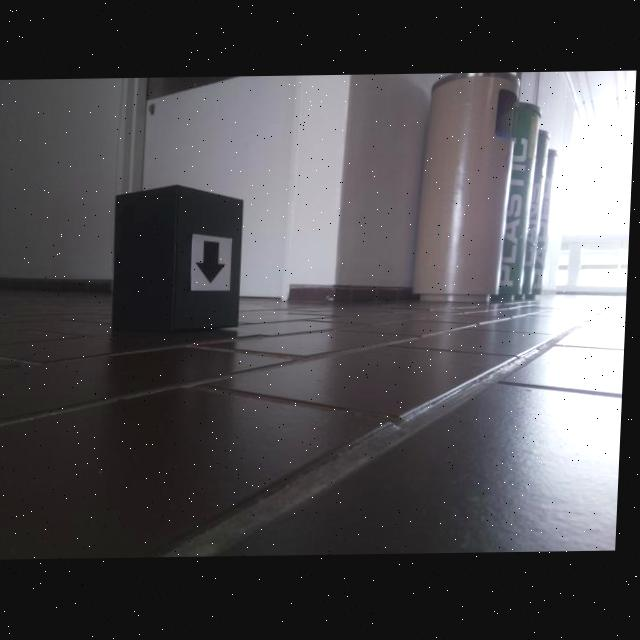DOWN: (196, 241, 230, 286)
